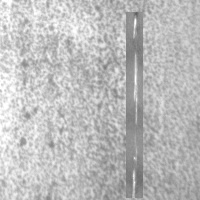pitted_surface: (9, 1, 198, 196)
scratches: (126, 12, 143, 198)
